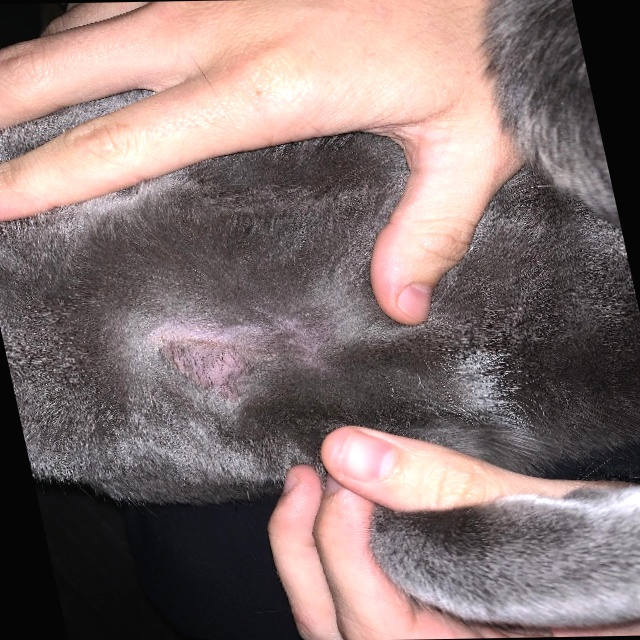hairloss: (135, 319, 283, 414)
